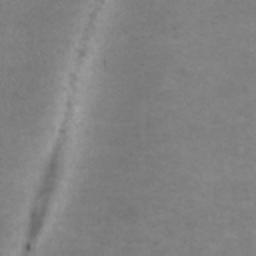Finishing roll printing: (22, 0, 106, 253)
